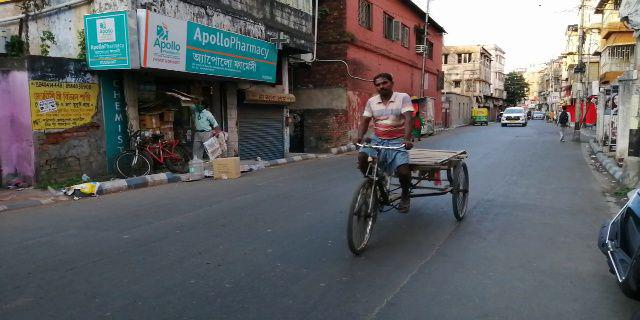Autorickshaw: (467, 104, 492, 127)
Car: (497, 102, 528, 131)
Cycle: (115, 125, 194, 180)
Van: (337, 72, 471, 257)
